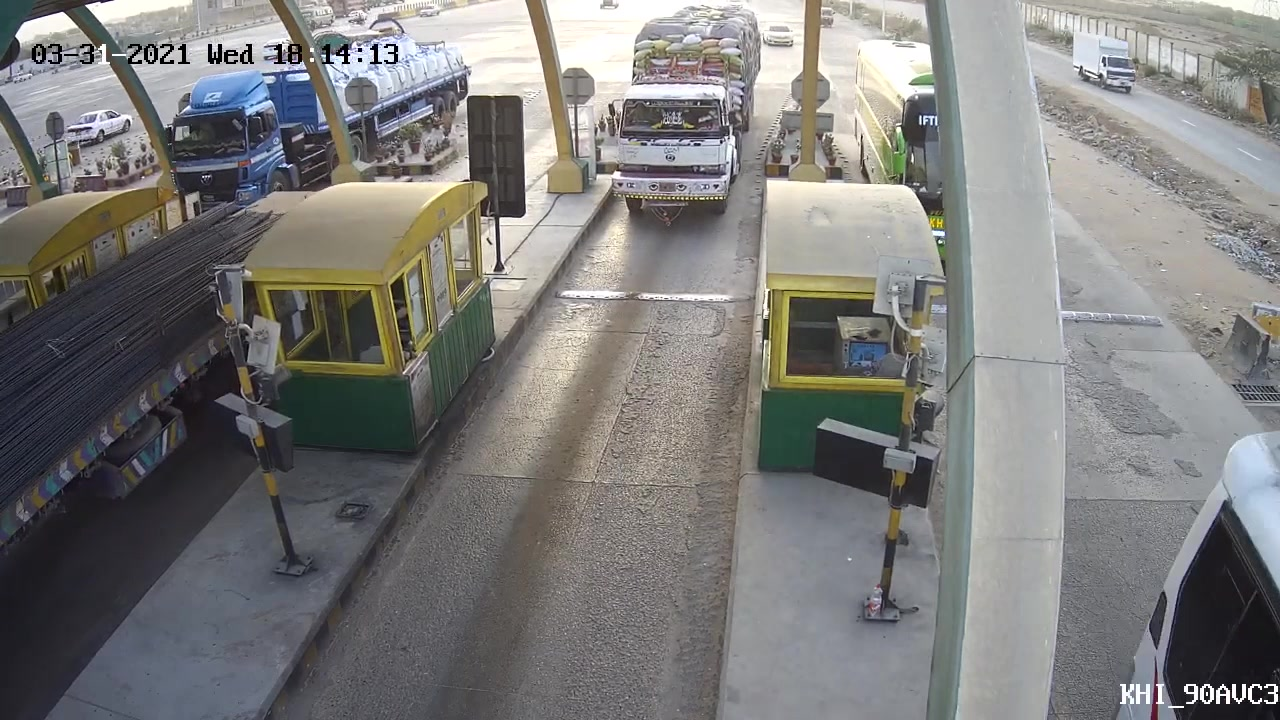F6: (597, 1, 763, 229)
